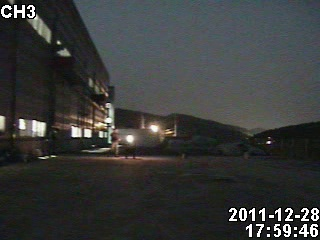fire: (123, 132, 135, 144)
